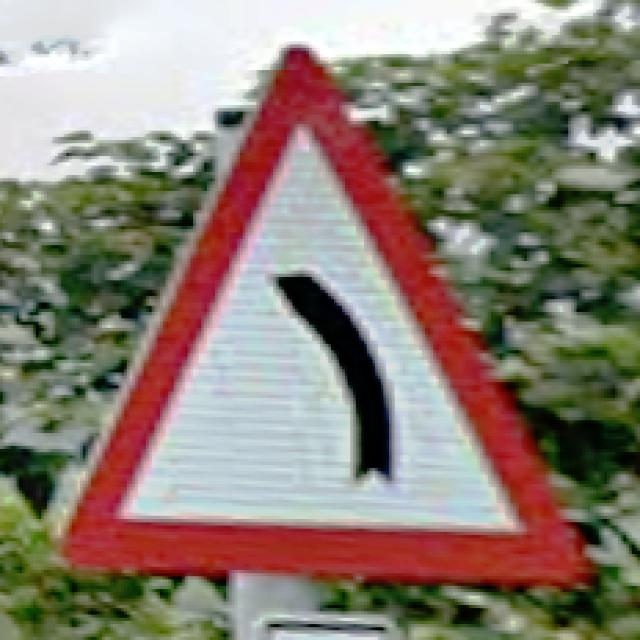leftbend: (61, 45, 588, 589)
